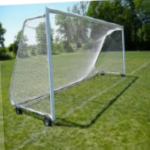goals: (7, 5, 128, 123)
